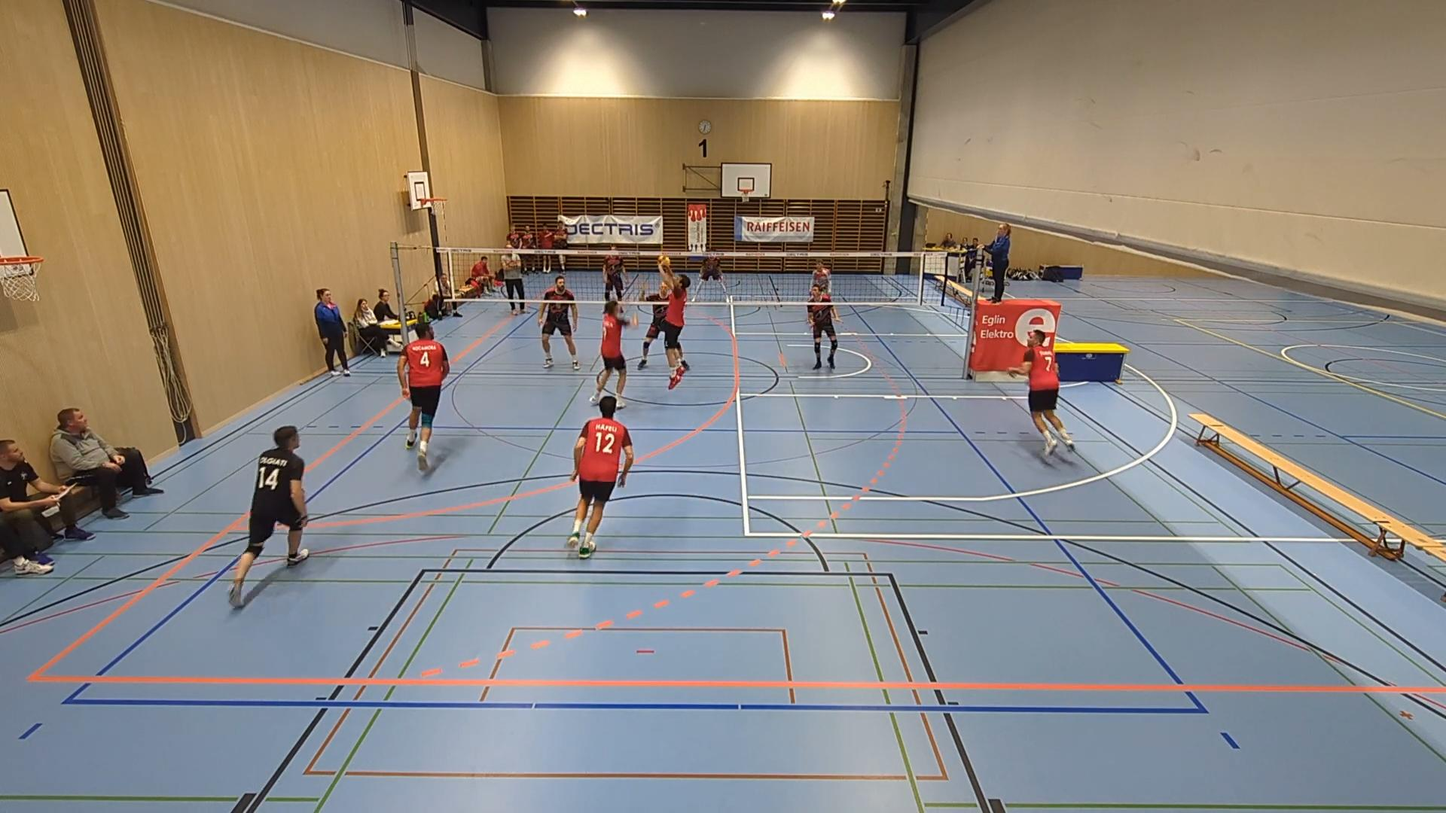Player: (229, 425, 308, 607), (567, 395, 633, 558), (1009, 330, 1074, 454), (397, 324, 449, 470), (590, 300, 637, 408), (539, 275, 579, 368), (807, 285, 839, 370), (638, 283, 667, 368), (603, 254, 625, 300), (812, 260, 831, 293), (700, 254, 721, 282)
Set: (650, 256, 692, 388)
ball: (658, 251, 673, 265)
